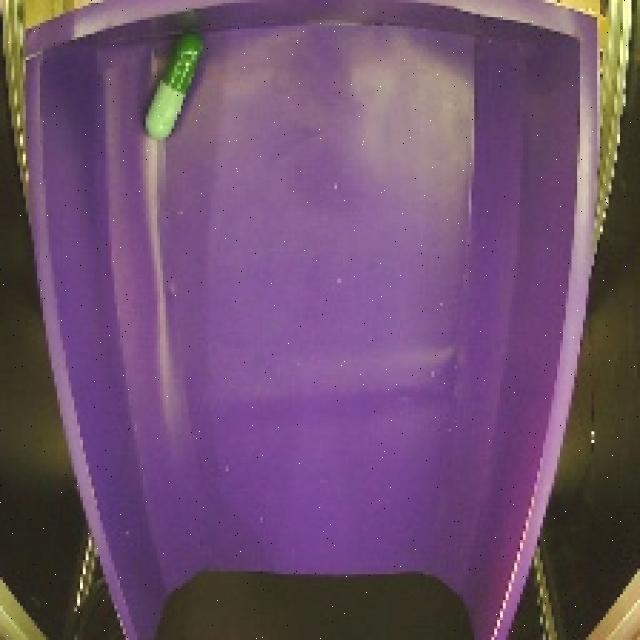small: (133, 30, 212, 152)
